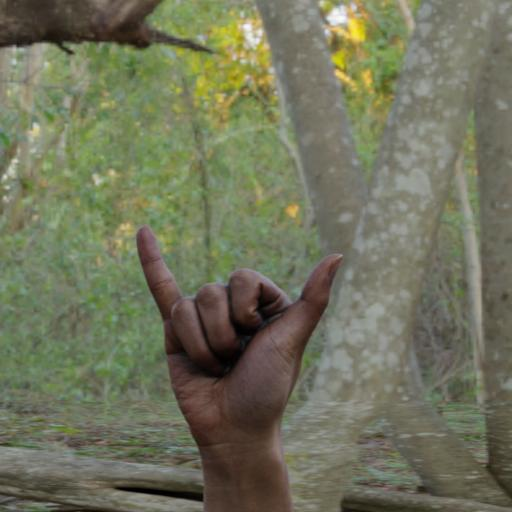Y: (121, 213, 354, 512)
